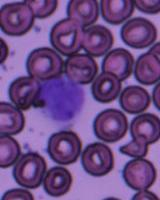M: (35, 74, 87, 124)
